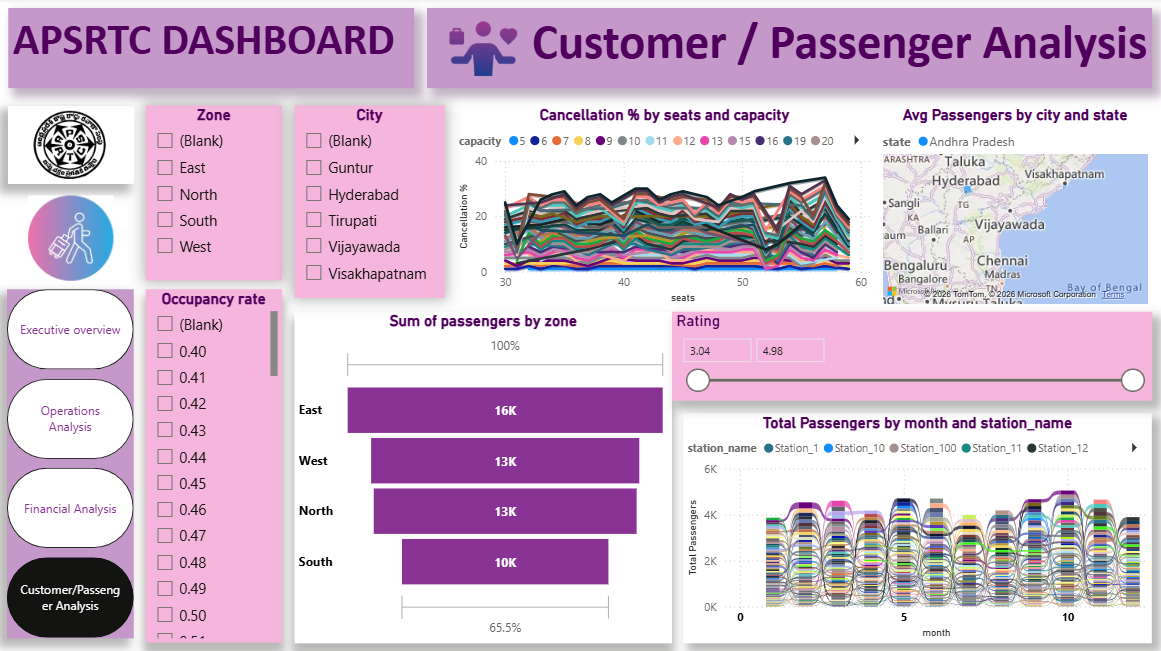

Layout of this report page (visuals, bound fields, positions):
{"tool":"powerbi","page":{"name":"Customer/Passenger Analysis","canvas":[1280,720],"ordinal":3},"visuals":[{"type":"funnel","fields":{"Y":["Sum(fact_trips.passengers)"],"Category":["dim_stations.zone"]},"box":[326.6,344.4,414.4,363.6],"z":0,"group":"g1"},{"type":"ribbonChart","fields":{"Category":["dim_dates.month"],"Y":["fact_trips.Total Passengers"],"Series":["dim_stations.station_name"]},"box":[753.3,455.6,514.6,252.5],"z":1000,"group":"g1"},{"type":"filledMap","fields":{"Category":["dim_stations.city"],"Series":["dim_stations.state"]},"box":[967.4,118,300.5,223.7],"z":2000,"group":"g1"},{"type":"stackedAreaChart","fields":{"Y":["fact_trips.Cancellation %"],"Series":["dim_stations.capacity"],"Category":["dim_buses.seats"]},"box":[502.2,118,461.1,222.3],"z":3000,"group":"g1"},{"type":"slicer","title":"Rating","fields":{"Values":["dim_buses.rating"]},"box":[741,344.4,526.9,97.4],"z":4000,"group":"g1"},{"type":"slicer","title":"Zone","fields":{"Values":["dim_stations.zone"]},"box":[163.3,118,149.6,192.1],"z":5000,"group":"g1"},{"type":"slicer","title":"City","fields":{"Values":["dim_stations.city"]},"box":[326.6,118,164.7,211.3],"z":6000,"group":"g1"},{"type":"slicer","title":"Occupancy rate","fields":{"Values":["fact_trips.occupancy_rate"]},"box":[163.3,319.7,149.6,388.3],"z":7000,"group":"g1"},{"type":"textbox","box":[12.3,11,446,87.8],"z":8000,"group":"g1"},{"type":"textbox","box":[472,11,795.9,87.8],"z":9000,"group":"g1"},{"type":"pageNavigator","box":[10.8,319.4,139.4,383],"z":10000,"group":"g1"},{"type":"image","box":[12.3,118,138.6,86.4],"z":11000,"group":"g1"},{"type":"image","box":[11,216.8,140,93.3],"z":11001,"group":"g1"},{"type":"image","box":[487.1,15.1,93.3,79.6],"z":11002,"group":"g1"},{"type":"group","id":"g1","title":"Group 1","box":[10.8,11,1257.1,697.1],"z":11003}]}

Visuals, with their boxes in screenshot pixels (x1, y1, x2, y2), scaled from the page's 1280x720 canvas onto the 1161x651 screenshot:
funnel - Sum(fact_trips.passengers) x dim_stations.zone: BBox(296, 311, 672, 640)
ribbonChart - dim_dates.month x fact_trips.Total Passengers: BBox(683, 412, 1150, 640)
filledMap - dim_stations.city x dim_stations.state: BBox(877, 107, 1150, 309)
stackedAreaChart - fact_trips.Cancellation % x dim_stations.capacity: BBox(456, 107, 874, 308)
"Rating" slicer: BBox(672, 311, 1150, 399)
"Zone" slicer: BBox(148, 107, 284, 280)
"City" slicer: BBox(296, 107, 446, 298)
"Occupancy rate" slicer: BBox(148, 289, 284, 640)
textbox: BBox(11, 10, 416, 89)
textbox: BBox(428, 10, 1150, 89)
pageNavigator: BBox(10, 289, 136, 635)
image: BBox(11, 107, 137, 185)
image: BBox(10, 196, 137, 280)
image: BBox(442, 14, 526, 86)
"Group 1" group: BBox(10, 10, 1150, 640)
